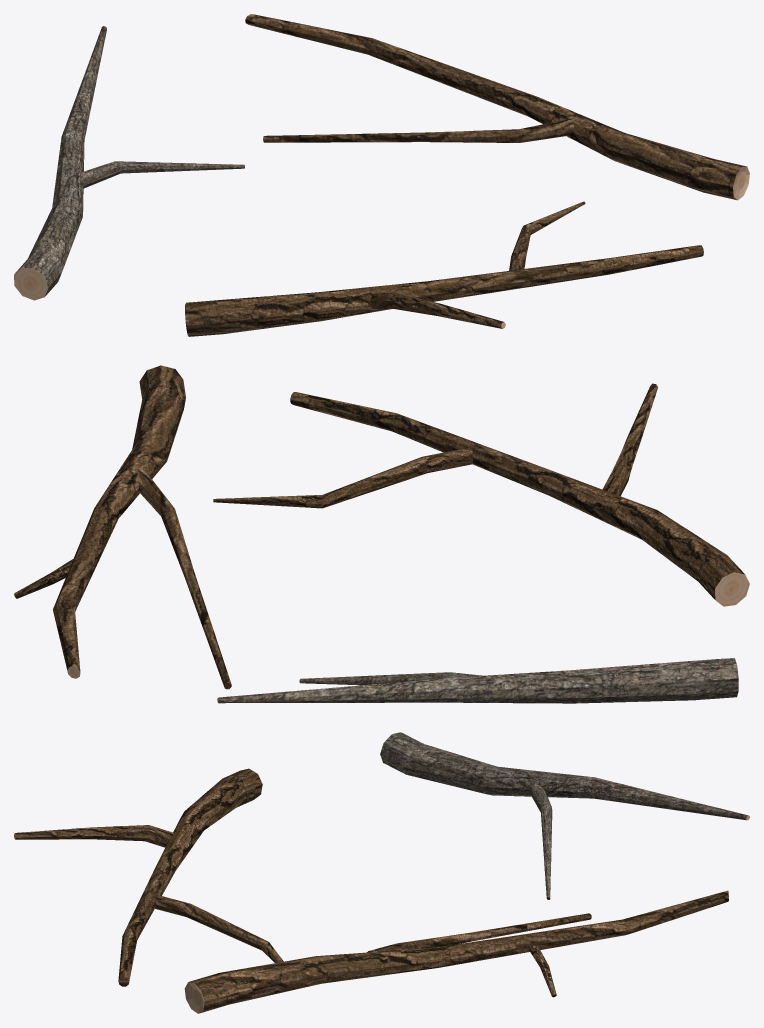
Rendered from ground_branches.obj.
3 renders of one model, top to bottom at view 1: azimuth 30°, elevation 25°; view 2: azimuth 150°, elevation 25°; view 3: azimuth 270°, elevation 25°, orthographic. The views are drawn at different scales.
Parts seen in each view (by area): view 1: ground_branches; view 2: ground_branches; view 3: ground_branches.
Part boxes in pixels (x1,y1,x2,y2): ground_branches: [14, 14, 749, 336]; ground_branches: [14, 365, 749, 703]; ground_branches: [14, 732, 749, 1013].
Bounding box in the file's own units: 3.69 × 0.4103 × 3.98.
1 material, 1 textured.
